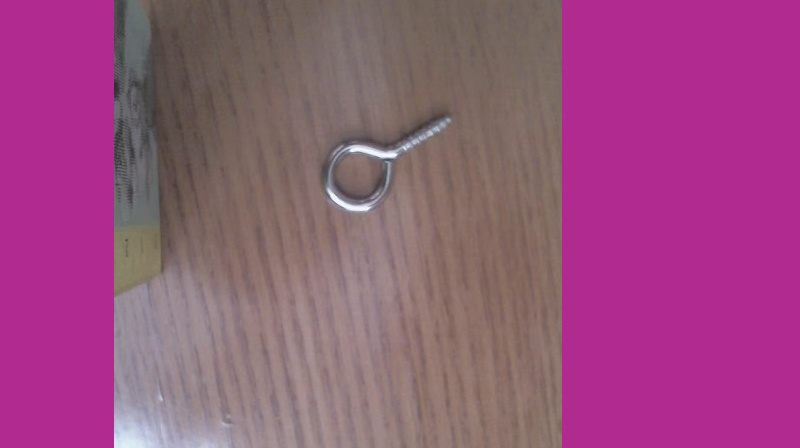O001: (316, 110, 454, 216)
